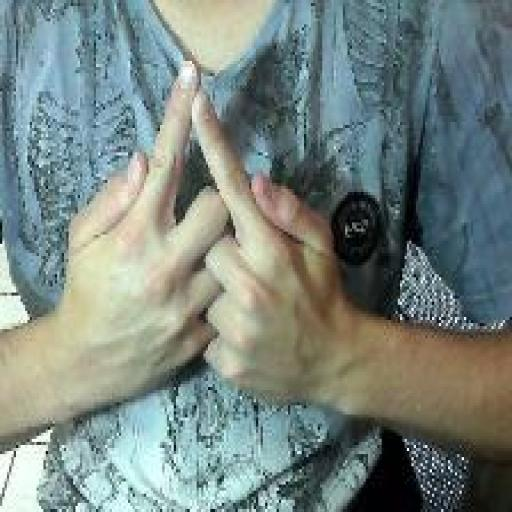Uma -horse-: (60, 58, 340, 411)
